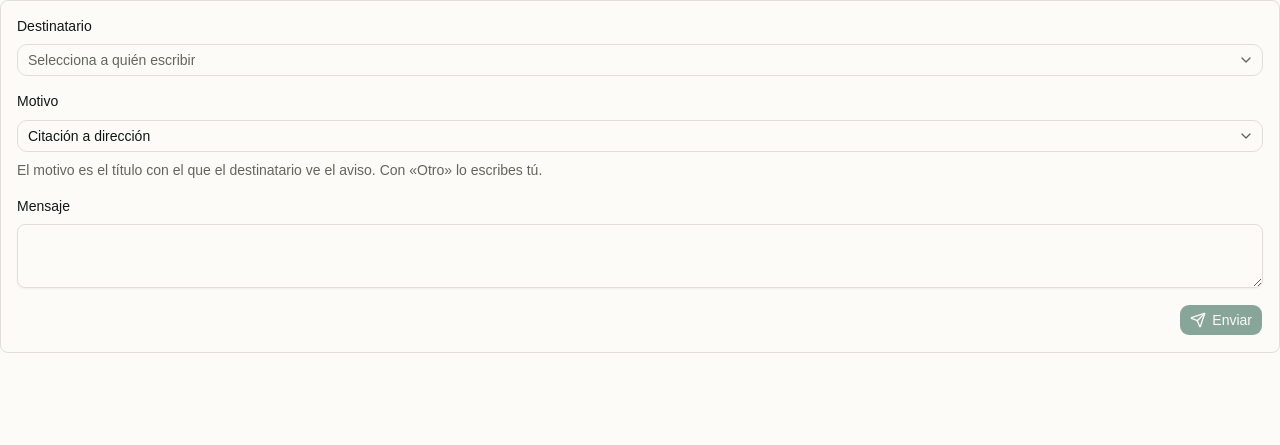
Scenario: ComposeNotification › asks for a subject only when the reason is not in the list
What coordinates should you click on to do the following:
click the dropdown named "motivo"
I would click on:
 (89, 136)
Its box is [17,120,1263,152].
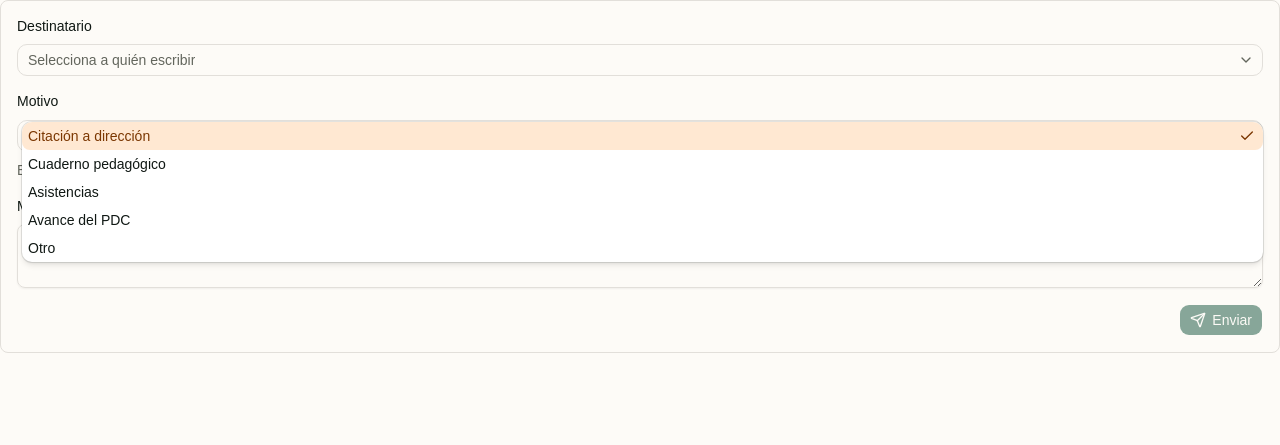
What coordinates should you click on to do the following:
click the option "Citación a dirección"
I would click on:
 (89, 136)
Its box is [22,122,1263,150].
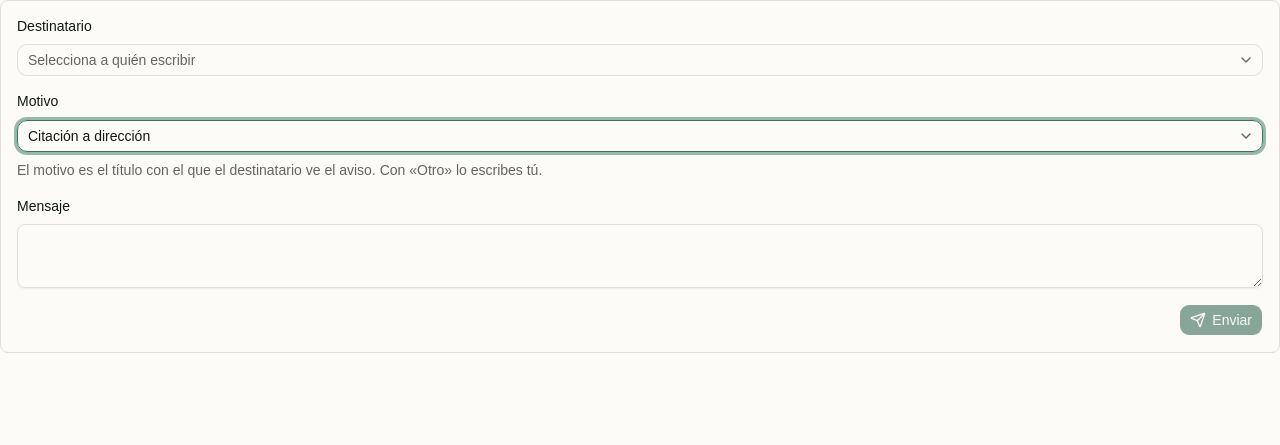
Expected: the field labelled "asunto" is not shown
What coordinates should you click on to do the following:
click the dropdown named "motivo"
I would click on:
 (89, 136)
Its box is [17,120,1263,152].
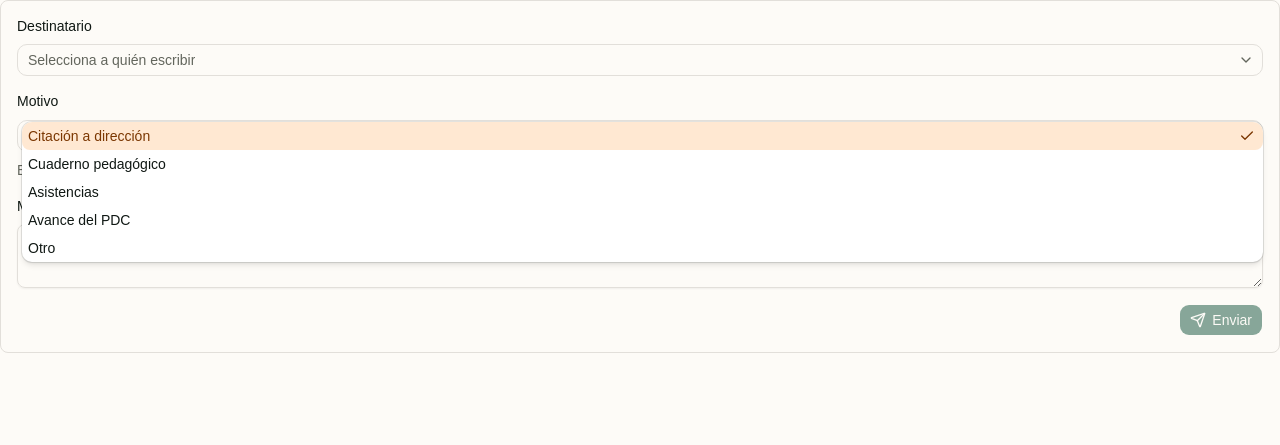
What coordinates should you click on to do the following:
click the option "Otro"
I would click on:
 (42, 248)
Its box is [28,240,55,256].
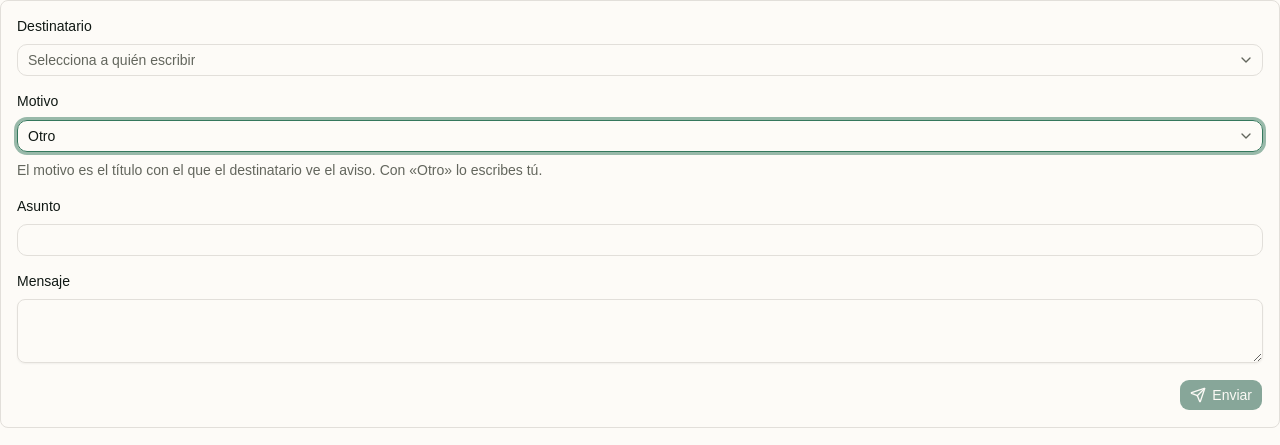
Now the field labelled "Asunto" is shown, box [17,224,1263,256]
